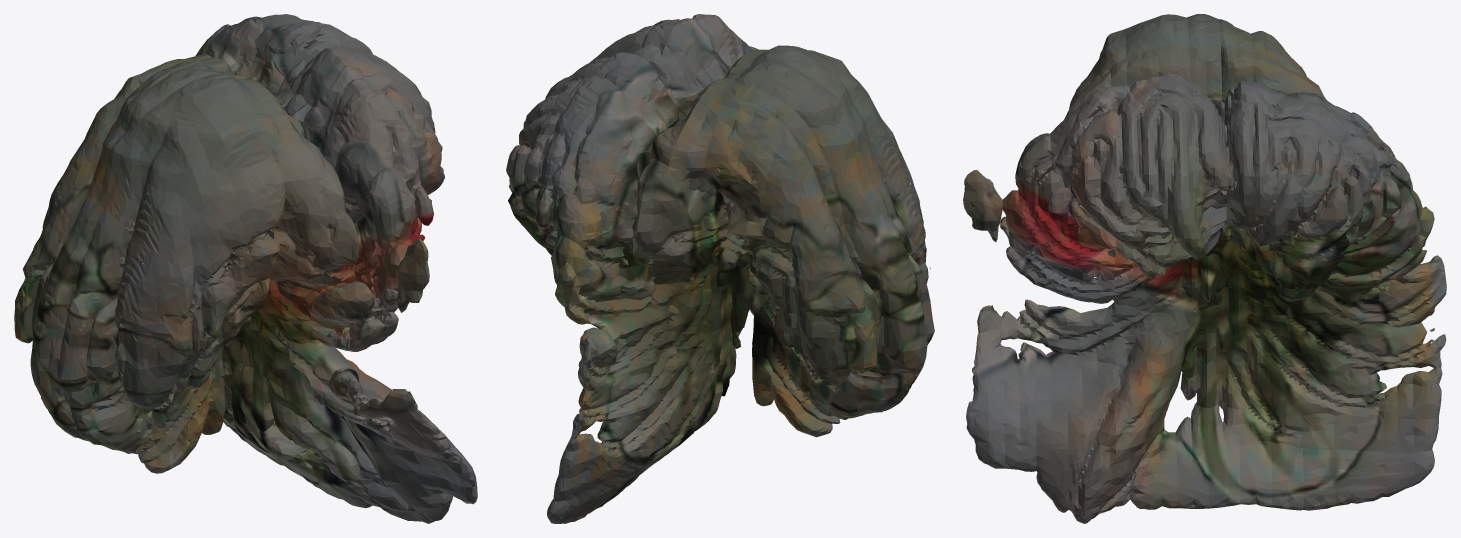
Rendered from epiphyte.glb.
3 views of the same model, side by side, from view 1: azimuth 30°, elevation 25°; view 2: azimuth 150°, elevation 25°; view 3: azimuth 270°, elevation 25° (orthographic). The views are drawn at different scales.
Parts seen in each view (by area): view 1: world; view 2: world; view 3: world.
Boxes of the visible parts, x1,y1,x2,y2 form: world: [14, 14, 477, 523]; world: [506, 14, 934, 523]; world: [963, 14, 1446, 523].
Size of the model in its own units: 0.5247 by 0.6 by 0.6096.
1 material, 1 textured.
